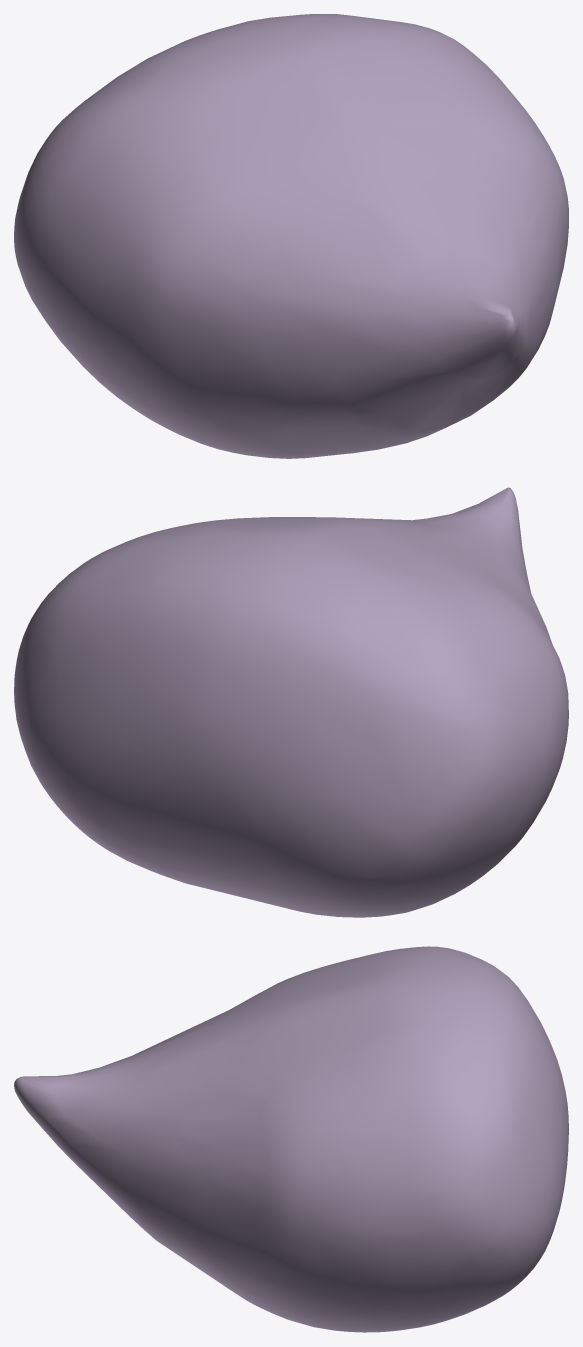
The model's file is bladder.glb.
The picture shows the model from 3 angles, top to bottom: view 1: azimuth 30°, elevation 25°; view 2: azimuth 150°, elevation 25°; view 3: azimuth 270°, elevation 25°; orthographic projection. The views are drawn at different scales.
Parts seen in each view (by area): view 1: FMA15900.stl; view 2: FMA15900.stl; view 3: FMA15900.stl.
Part boxes in pixels (<box>): FMA15900.stl: <box>14,14,568,458</box>; FMA15900.stl: <box>14,487,568,917</box>; FMA15900.stl: <box>14,946,568,1332</box>.
Bounding box in the file's own units: 1.75 × 1.24 × 2.
